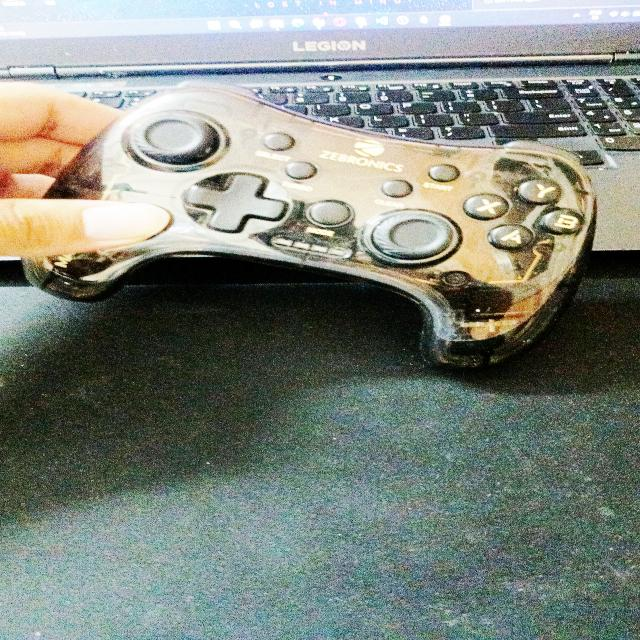gamepad: (20, 81, 598, 371)
